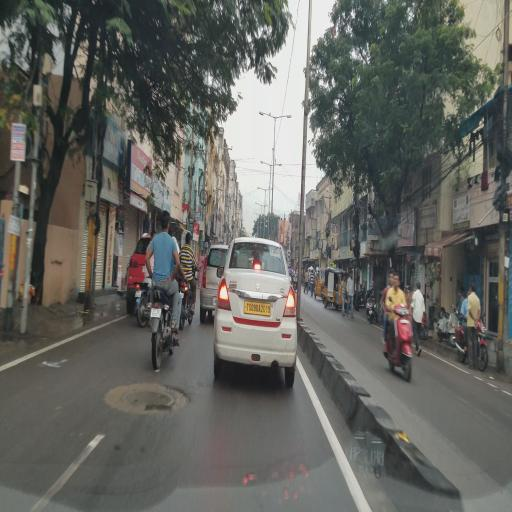street_light_0: (257, 101, 275, 129), (272, 109, 298, 123), (257, 152, 272, 176), (270, 156, 287, 176), (265, 179, 279, 195), (253, 180, 264, 194)
